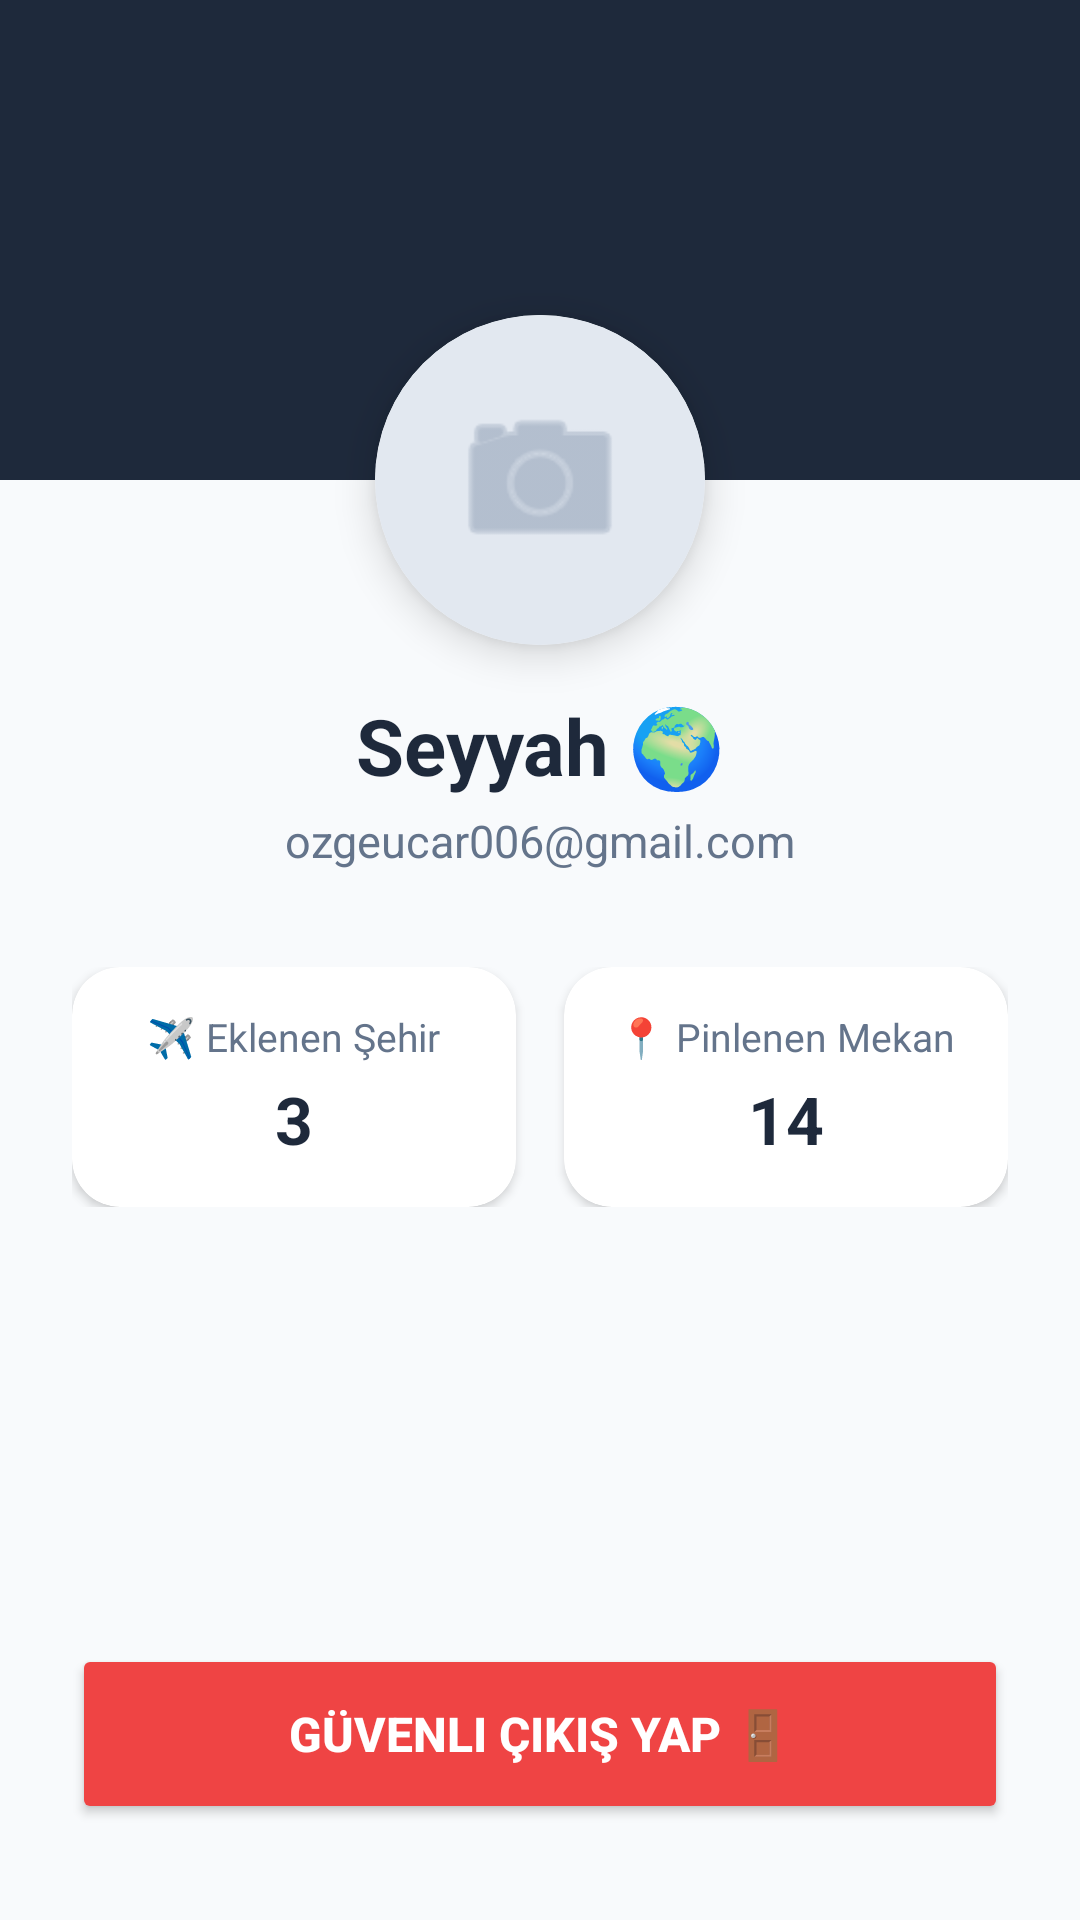

Point at icon controls on the screen. Image size 1080 x 1920, points as (x,y).
camera: (540,480)
